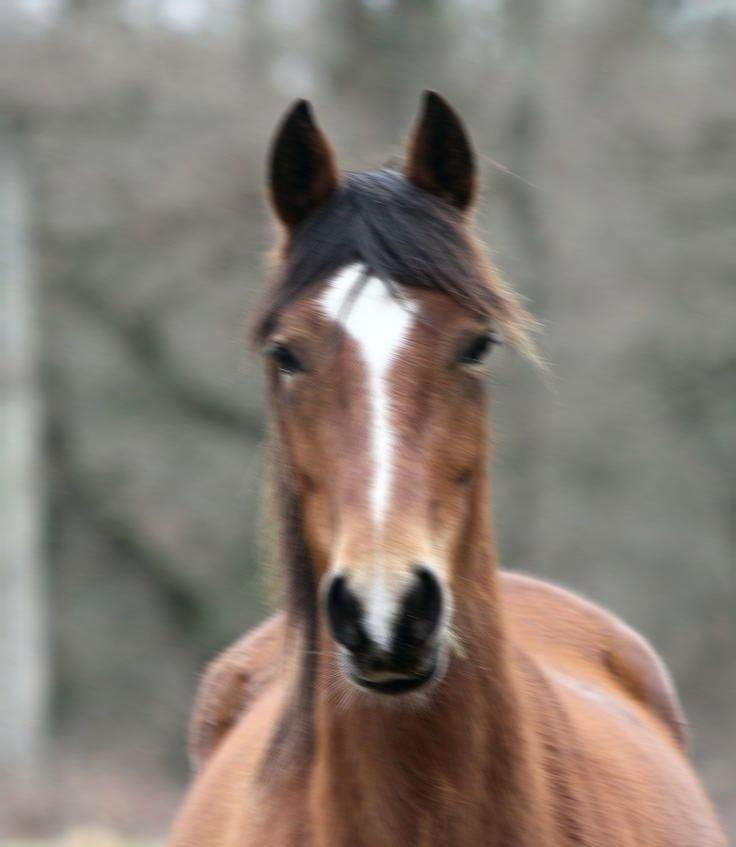horse: (147, 79, 736, 847)
